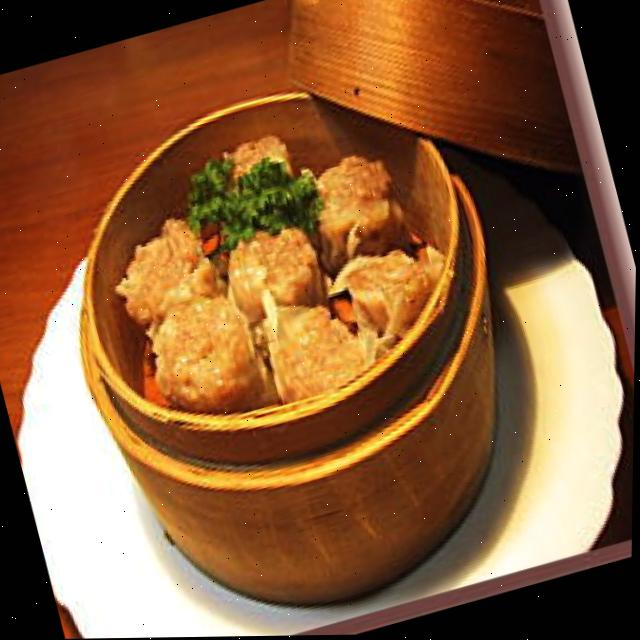带馅早点: (89, 147, 470, 431)
